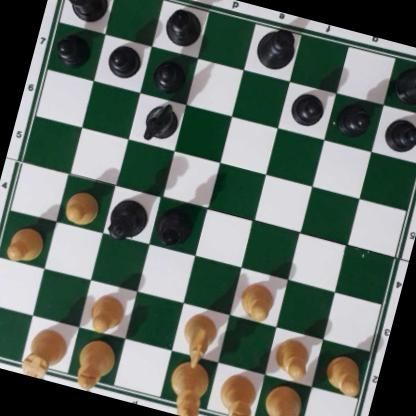black-bishop: (159, 5, 208, 51), (151, 201, 197, 250)
black-king: (251, 21, 301, 72)
black-knight: (139, 97, 181, 143)
black-pawn: (287, 86, 328, 128), (335, 98, 374, 139), (104, 40, 143, 81), (150, 54, 189, 95), (53, 29, 93, 68), (381, 112, 416, 156)
black-queen: (104, 195, 150, 244)
black-rook: (57, 0, 114, 25), (392, 55, 416, 110)
white-bishop: (69, 333, 122, 397), (211, 370, 260, 416)
white-king: (162, 356, 215, 416)
white-knight: (174, 310, 222, 373)
white-pawn: (269, 332, 316, 381), (321, 350, 367, 395), (59, 184, 104, 229), (85, 290, 128, 337), (234, 277, 277, 323), (3, 222, 47, 265)
white-rook: (20, 322, 70, 383), (257, 385, 313, 416)
